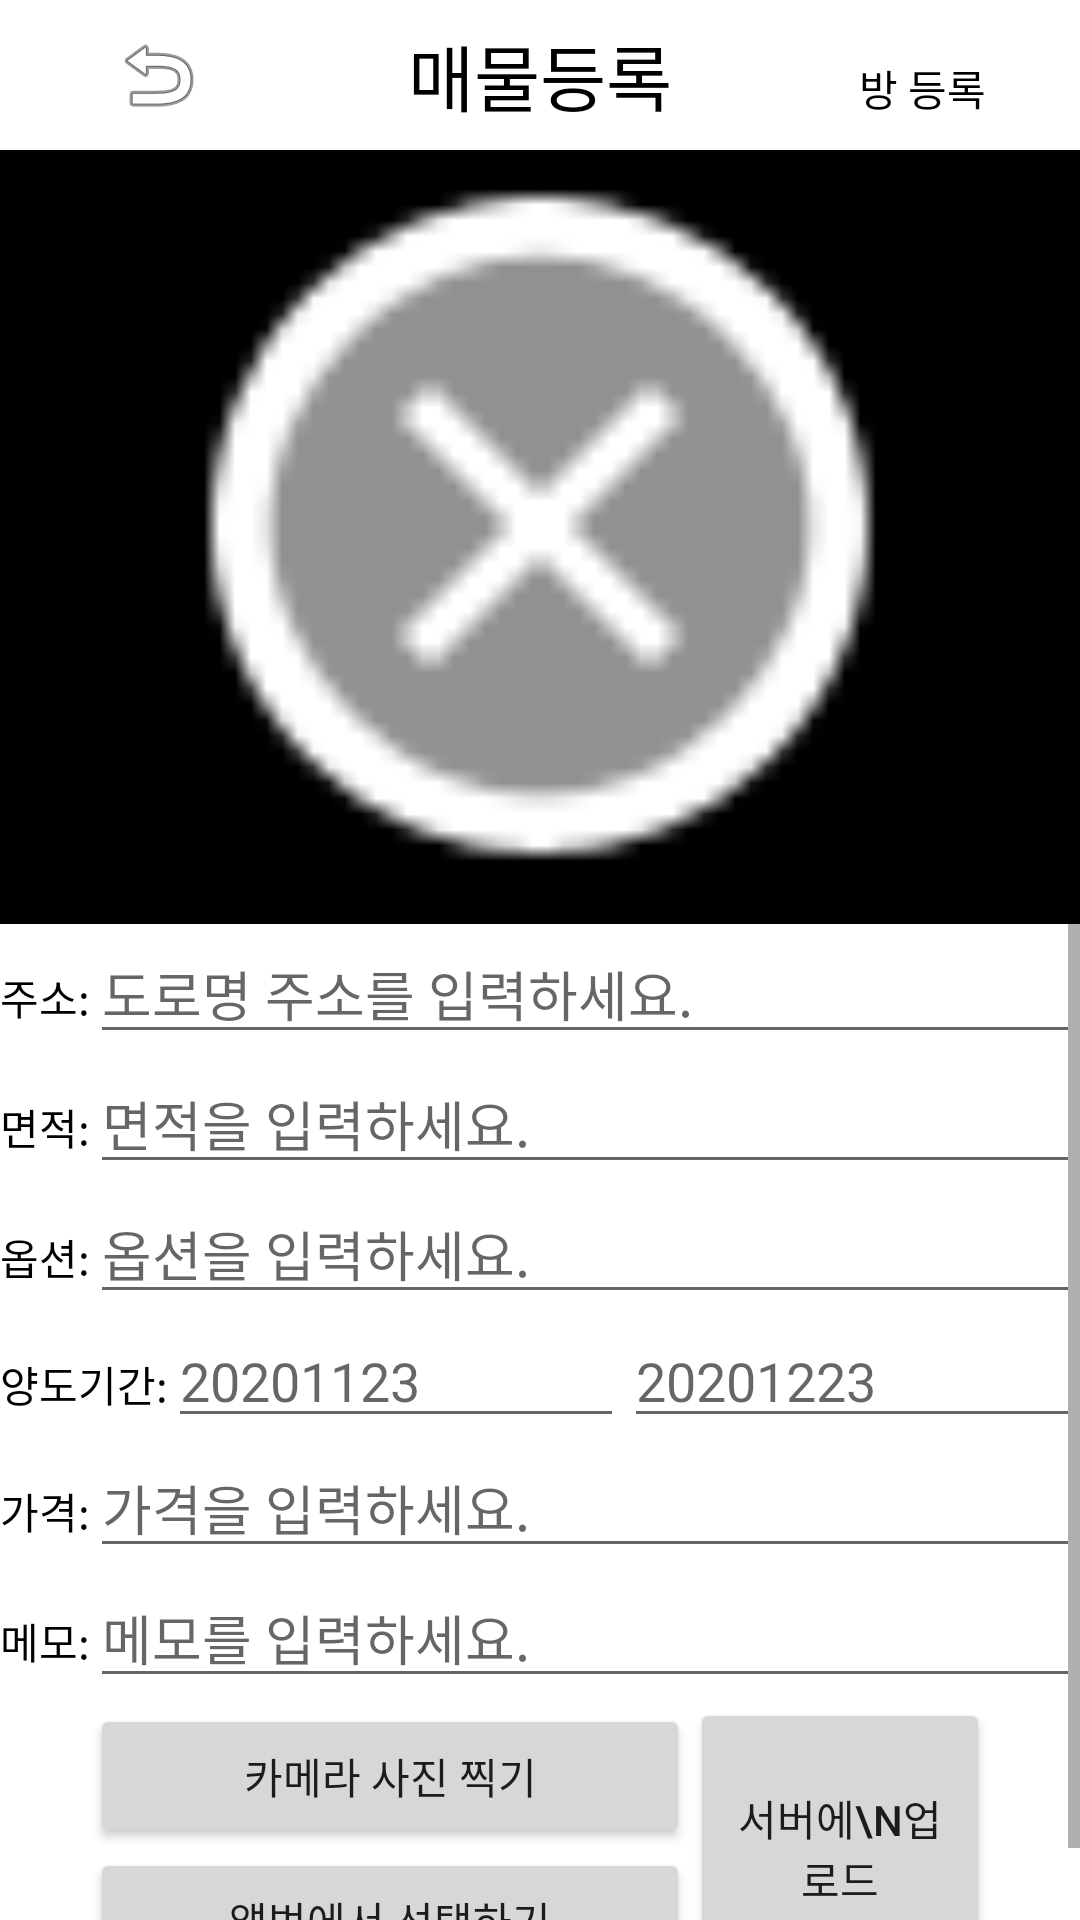

Named icons in this screenshot (1080*1920) and their centers, [x,y]:
revert: [159,75]
